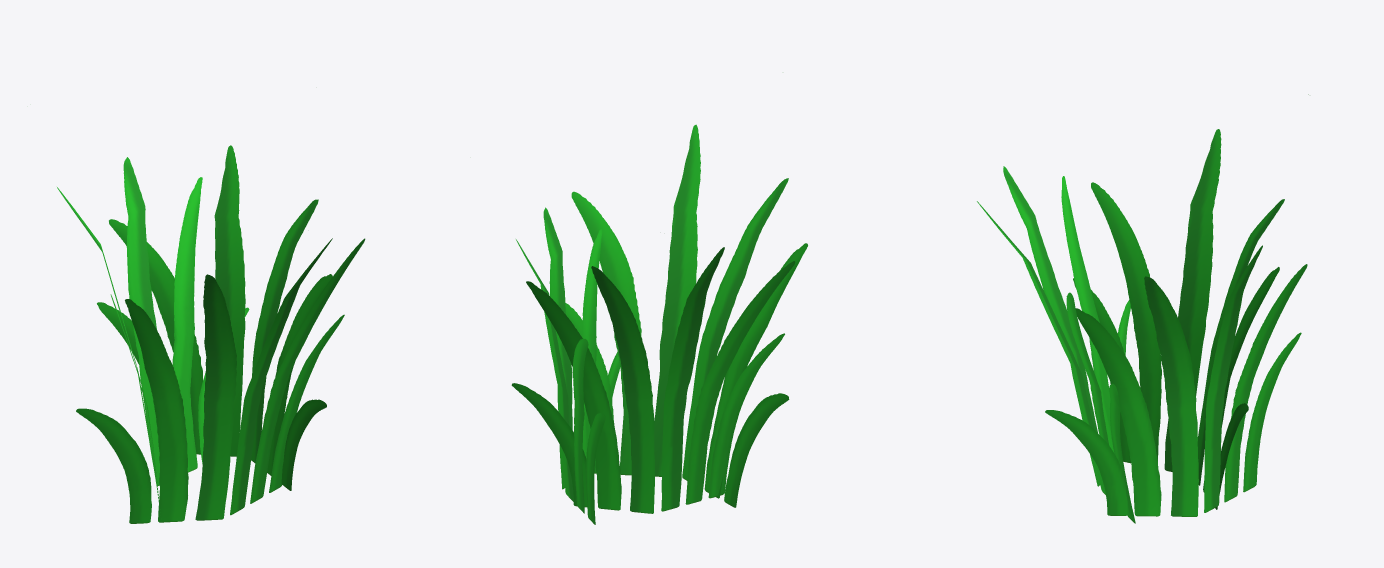
Rendered from Grass01.FBX.
The picture shows the model from 3 angles, left to right: view 1: azimuth 30°, elevation 25°; view 2: azimuth 150°, elevation 25°; view 3: azimuth 270°, elevation 25°; orthographic projection. The views are drawn at different scales.
Visible parts, largest first — view 1: Grass01; view 2: Grass01; view 3: Grass01.
Part boxes in pixels (bbox=[...]): Grass01: bbox=[57, 145, 365, 523]; Grass01: bbox=[511, 124, 807, 524]; Grass01: bbox=[977, 94, 1308, 523].
Bounding box in the file's own units: 55.17 × 61.94 × 65.39.
1 material, 1 textured.
